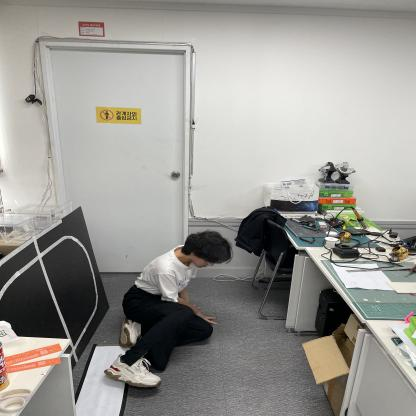fall: (113, 228, 235, 393)
